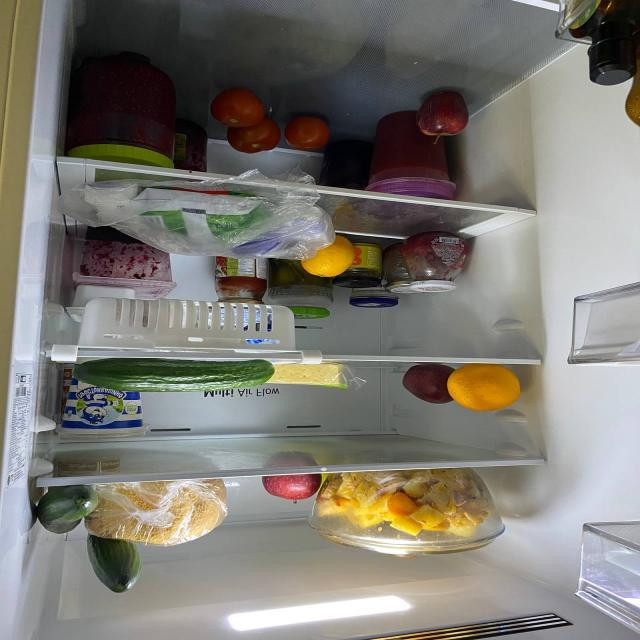Apple: (398, 370, 456, 409), (413, 97, 468, 135), (253, 470, 319, 499)
Cucumber: (73, 358, 270, 395), (26, 487, 98, 535), (83, 541, 141, 593)
Orange: (442, 368, 526, 414), (306, 239, 356, 279)
Tomato: (208, 94, 270, 129), (224, 125, 280, 150), (288, 119, 330, 152)
